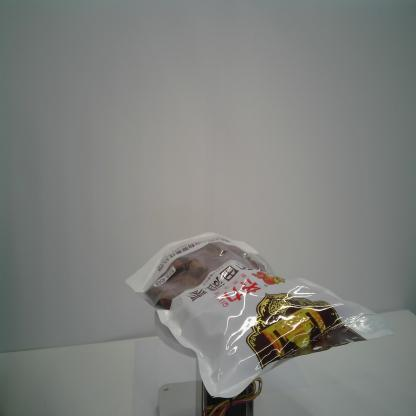Dried Food: (121, 229, 407, 401)
